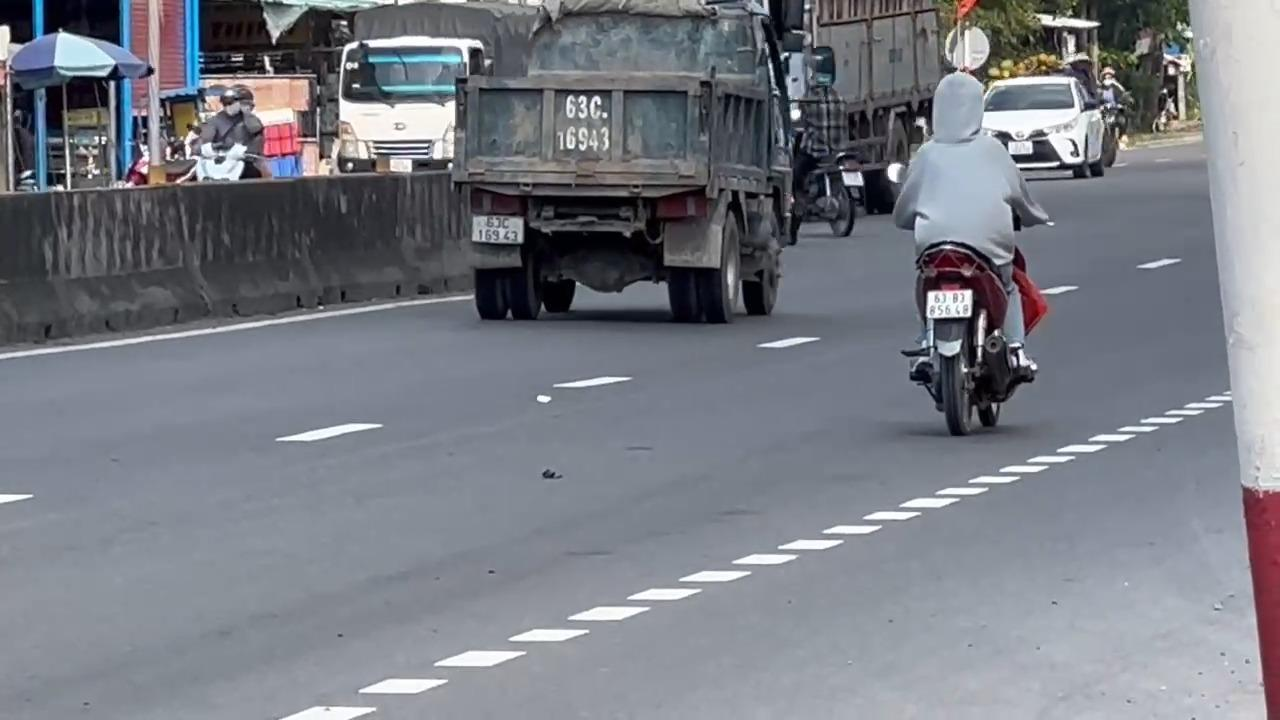bien_so: (470, 213, 525, 244), (924, 287, 973, 319)
